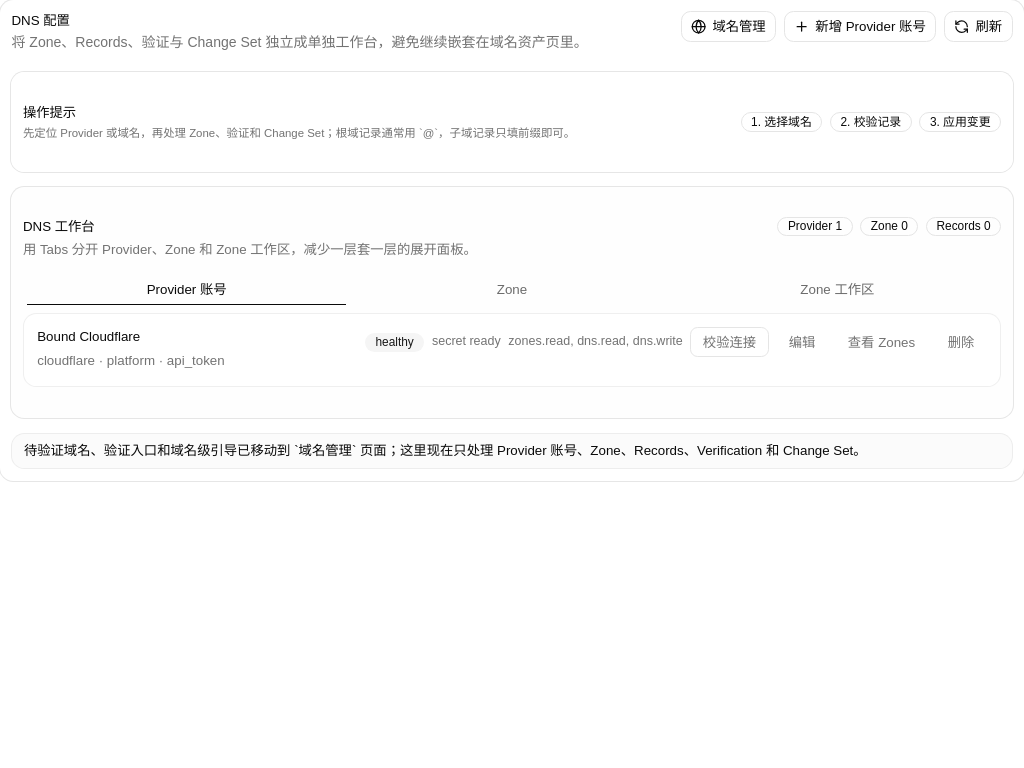
Test: AdminDnsPage provider form › locks provider and auth type when the provider is already bound to domains
Click the button with aria-label "Bound Cloudflare 编辑": coordinates (802, 342) [776,327,828,358]
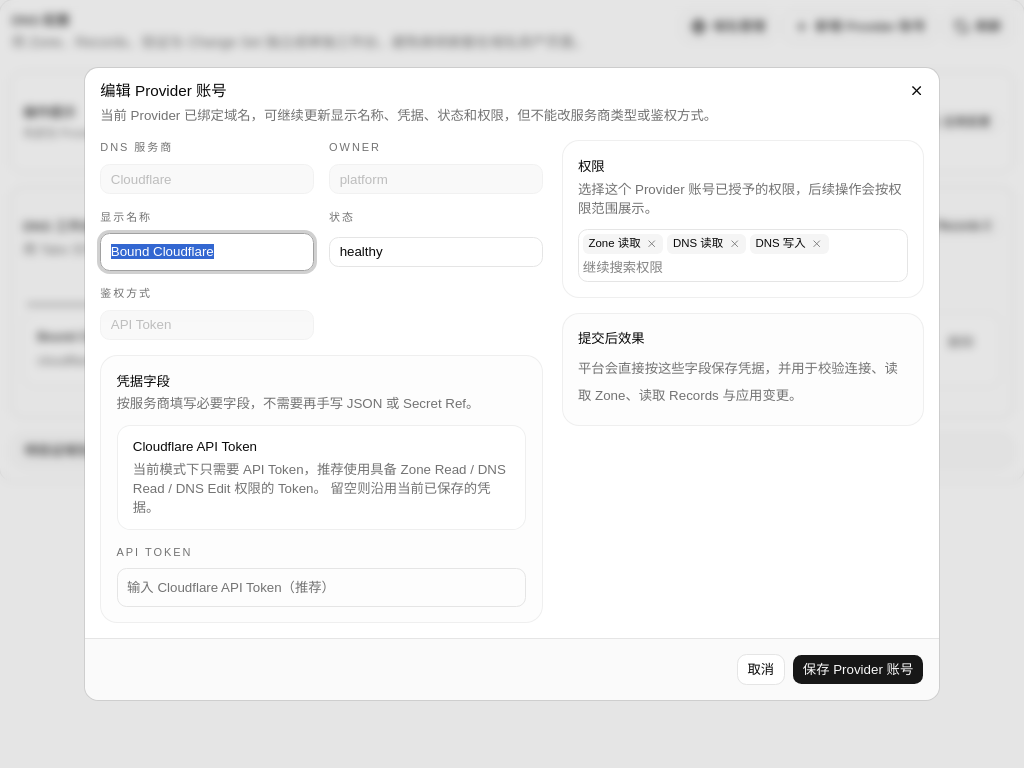
Now the dropdown labelled "DNS 服务商" is disabled, box [101,164,305,194]
Now the dropdown named "Provider Auth Type" is disabled, box [101,310,305,340]
Now the text "当前 Provider 已绑定域名，可继续更新显示名称、凭据、状态和权限，但不能改服务商类型或鉴权方式。" is shown, box [100,108,717,123]
